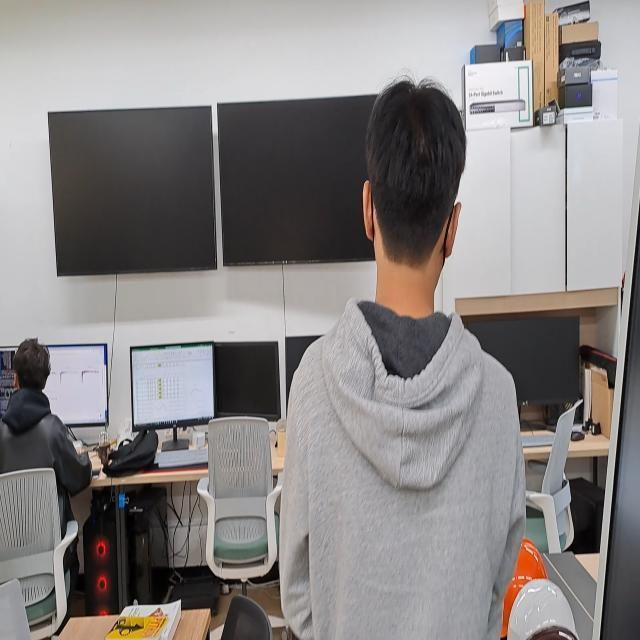vest: (284, 76, 528, 640), (1, 340, 108, 476)
